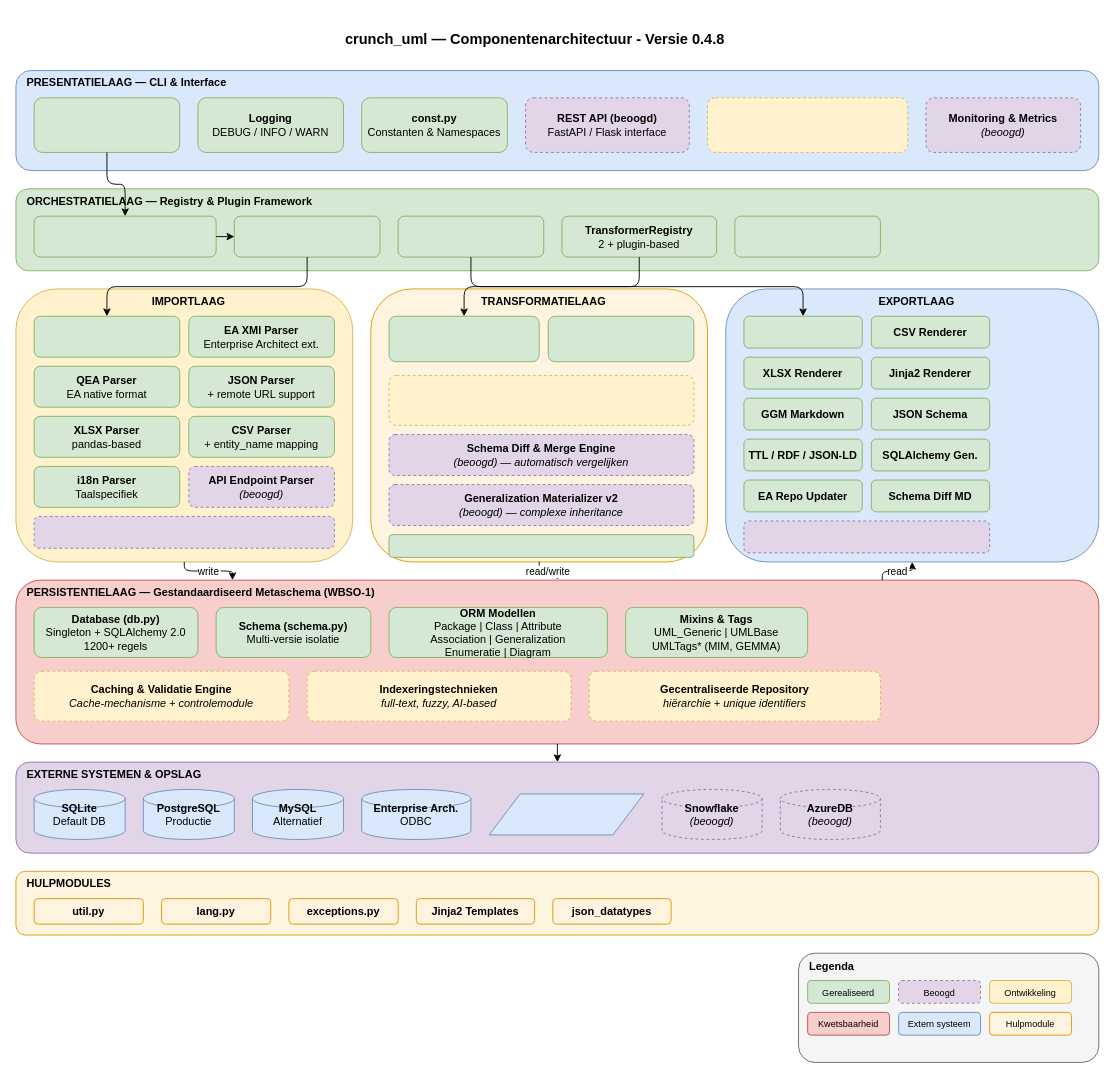
The diagram is 1115 pixels wide and 1078 high, and some of its shapes have lost their labels. Here are the shapes that lost their labels. From the top down, the centre of each, then its label:
(106,124): cli.py ArgumentParser main() entrypoint
(807,124): Configuratiemodule Beheer data exchanges & logging
(124,236): Registry (registry.py) @register decorator pattern
(306,236): ParserRegistry 7 parsers
(470,236): RendererRegistry 11 renderers
(807,236): Plugin Framework Dynamisch laden
(106,336): XMI Parser Standaard XMI 2.1
(463,338): CopyTransformer Deep copy + materialization
(620,338): PluginTransformer Dynamische plugins
(802,331): JSON Renderer
(541,399): Universele Mapping Layer database-agnostic mapping
(183,532): Streaming / Chunked Parser (beoogd) — voor grote bestanden
(541,545): lang.py — Vertaalmodule
(866,536): GraphQL / OpenAPI Renderer (beoogd)
(566,814): Bestandssysteem XMI, JSON, CSV, XLSX
